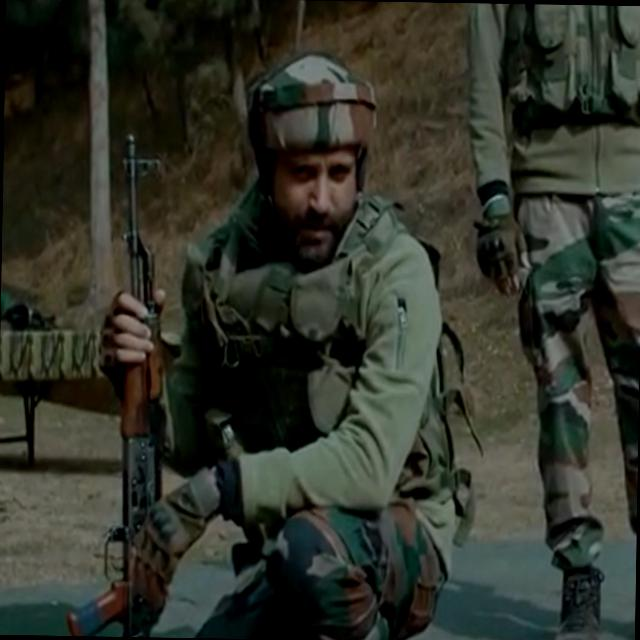long weapon: (54, 124, 194, 636)
